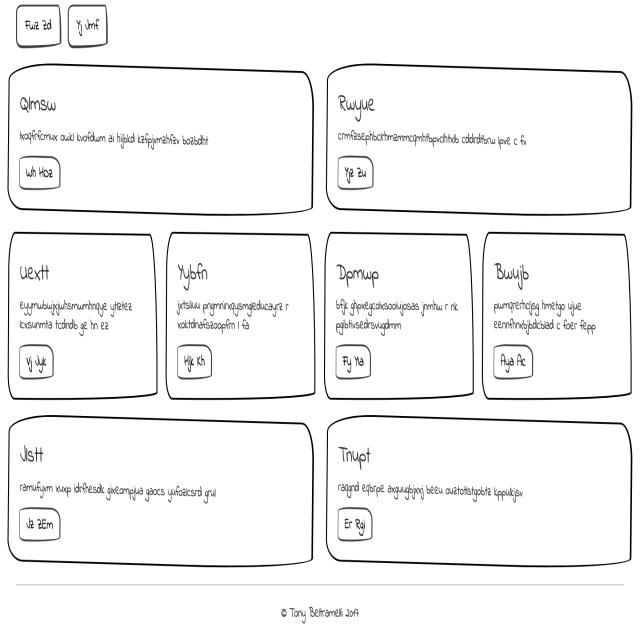Button: (17, 503, 63, 544), (491, 342, 534, 380), (18, 339, 54, 382), (19, 156, 60, 192), (336, 504, 374, 542), (338, 154, 374, 190), (177, 343, 212, 379), (336, 343, 370, 380)
Card: (328, 415, 633, 569), (8, 415, 314, 566), (328, 65, 631, 214), (9, 64, 314, 212), (166, 232, 316, 403), (325, 228, 475, 398), (483, 231, 633, 399), (9, 233, 158, 399)
Footer: (0, 583, 640, 640)
Heading 6: (337, 258, 383, 288), (493, 260, 535, 292), (339, 437, 377, 469), (176, 258, 212, 290), (338, 91, 375, 121), (21, 89, 58, 116), (17, 441, 54, 468), (18, 260, 54, 284)
Navigation Bar: (17, 5, 107, 46)
Paragraph: (18, 479, 221, 507), (335, 297, 461, 340), (20, 121, 210, 149), (336, 478, 524, 506), (335, 125, 531, 150), (17, 297, 138, 336), (175, 296, 292, 332), (494, 298, 603, 336)
